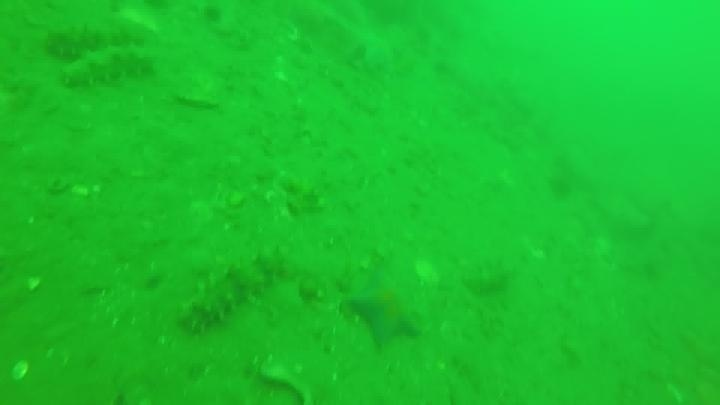holothurian: (177, 247, 301, 334), (59, 44, 157, 90), (42, 22, 148, 62)
starfish: (345, 269, 425, 350)
